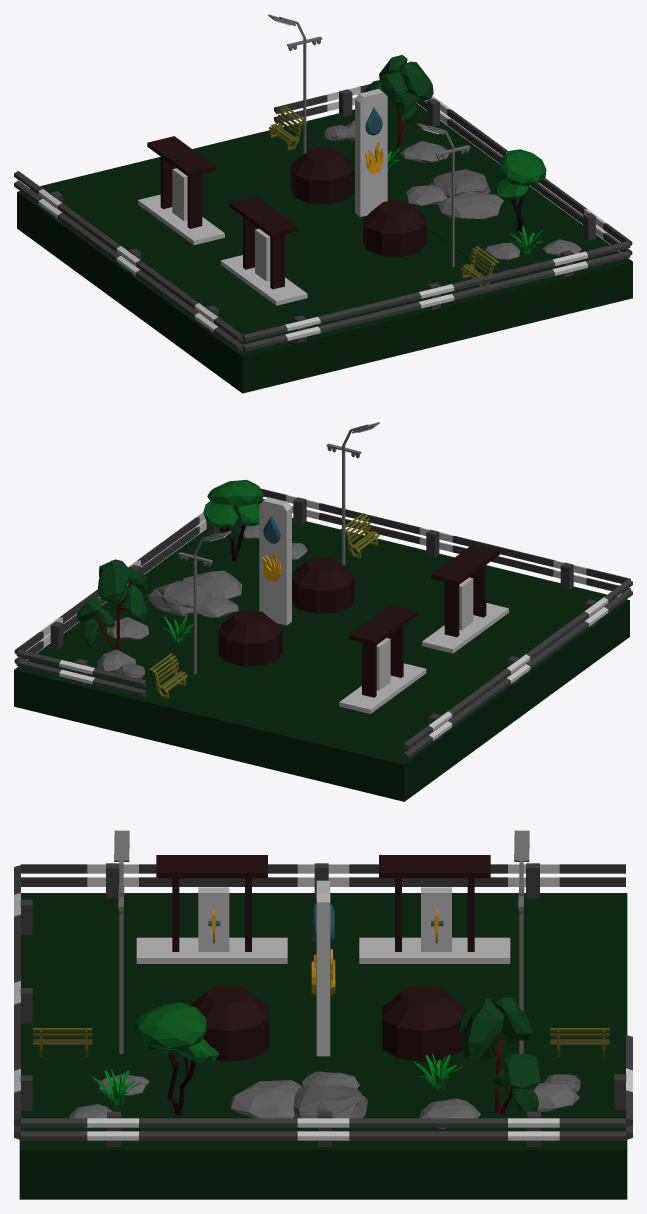
Rendered from FuelStation.FBX.
3 views of the same model, one above another, from view 1: azimuth 30°, elevation 25°; view 2: azimuth 150°, elevation 25°; view 3: azimuth 270°, elevation 25° (orthographic). The views are drawn at different scales.
Visible parts, largest first — view 1: fuel_station; view 2: fuel_station; view 3: fuel_station.
Part boxes in pixels (x1,y1,x2,y2): fuel_station: (14, 14, 632, 393); fuel_station: (14, 422, 632, 801); fuel_station: (14, 830, 632, 1199).
Bounding box in the file's own units: 10091 × 4604 × 10182.
